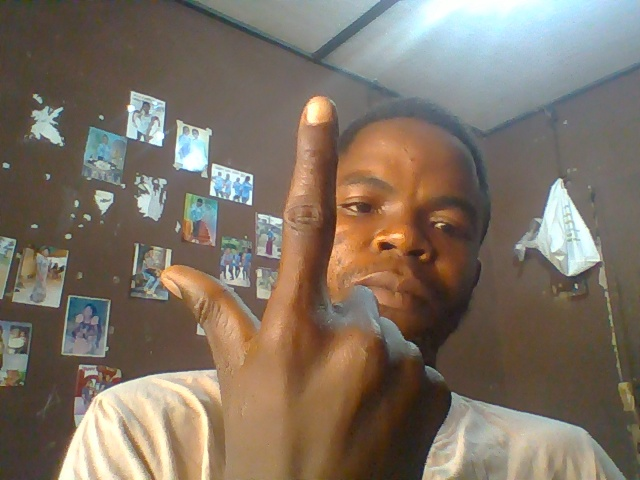Up: (161, 97, 457, 478)
